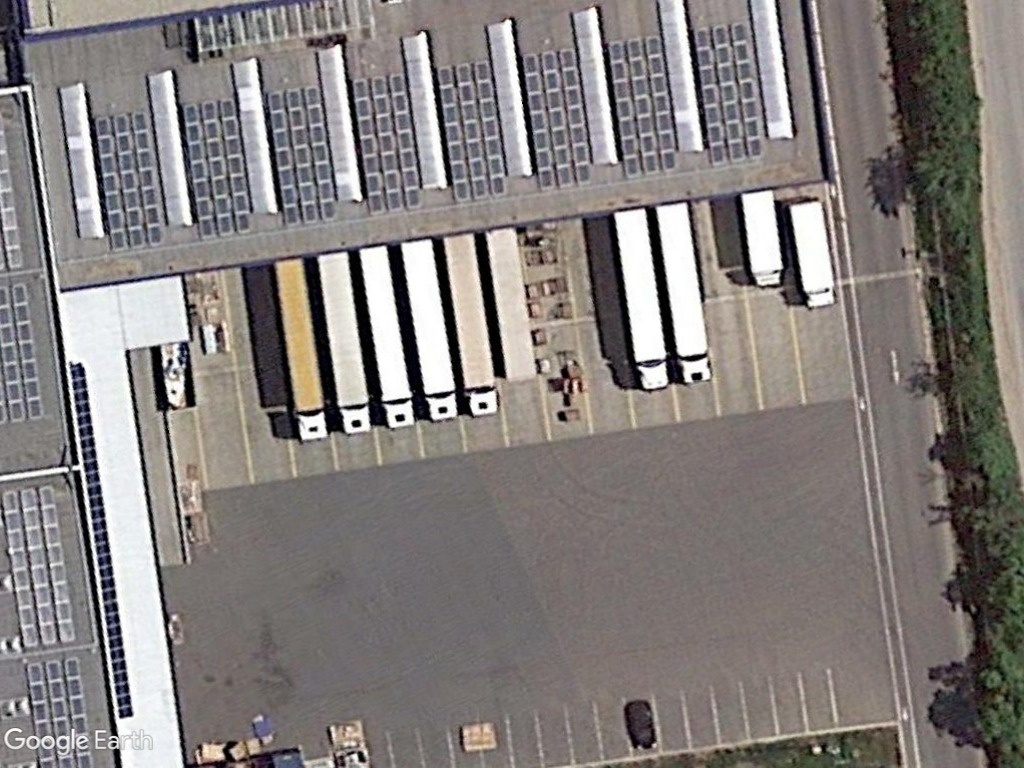longvehicle: (356, 237, 419, 430), (312, 245, 374, 437), (652, 199, 715, 387), (442, 231, 505, 418), (271, 256, 333, 446), (400, 236, 462, 424), (612, 206, 673, 393)
truck: (787, 194, 843, 313), (735, 186, 787, 291)
